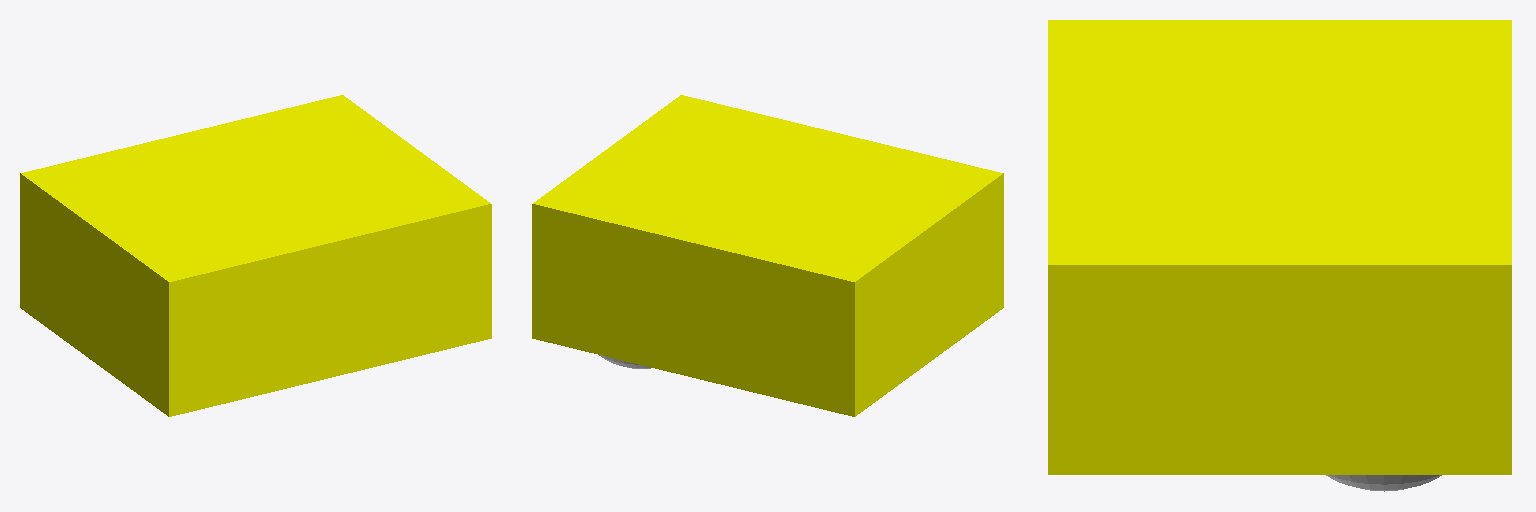
The robot description file, URDF, robot "underwater_robot":
<?xml version="1.0"?>
<robot name="underwater_robot">
  
  <!-- base_link - use box geometry -->
  <link name="base_link">
    <inertial>
      <origin xyz="-0.00388812346992118 0.214797507718185 0.000476870940854357" rpy="0 0 0" />
      <mass value="21.9611699884002" />
      <inertia ixx="0.23895137440233" ixy="-6.02120687701648E-05" ixz="6.67278401351575E-08" iyy="0.743447355689122" iyz="1.63793544263822E-06" izz="0.621848783014161" />
    </inertial>
    <visual>
      <geometry>
        <box size="1.0 0.8 0.4"/>
      </geometry>
      <material name="yellow">
        <color rgba="0.988 1 0 1" />
      </material>
    </visual>
    <collision>
      <geometry>
        <box size="1.0 0.8 0.4"/>
      </geometry>
    </collision>
  </link>

  <!-- Other links also use simple geometry -->
  <link name="Link1">
    <inertial>
      <origin xyz="-0.284442084254638 0.0315351600726216 0.110185193232208" rpy="0 0 0" />
      <mass value="26.1757475044251" />
      <inertia ixx="0.694456523856631" ixy="0.0239708286389597" ixz="-0.00454179397071017" iyy="1.11839552637036" iyz="0.00257399094431449" izz="1.14010350472946" />
    </inertial>
    <visual>
      <geometry>
        <sphere radius="0.2"/>
      </geometry>
      <material name="gray">
        <color rgba="0.752941 0.752941 0.752941 1" />
      </material>
    </visual>
    <collision>
      <geometry>
        <sphere radius="0.2"/>
      </geometry>
    </collision>
  </link>

  <joint name="J1" type="continuous">
    <origin xyz="0.288260052347553 0.179999999999991 -0.10968904997502" rpy="0 0 0" />
    <parent link="base_link" />
    <child link="Link1" />
    <axis xyz="0.866025403784441 0 0.499999999999996" />
  </joint>

</robot>

--- Facts derived from the render (not from the file) ---
The picture shows the robot from 3 angles, left to right: view 1: azimuth 30°, elevation 25°; view 2: azimuth 150°, elevation 25°; view 3: azimuth 270°, elevation 25°; orthographic projection.
Robot: underwater_robot — 2 links, 1 joints (1 continuous); root link base_link; default pose: all joints at 0.
Visible links, largest first — view 1: base_link; view 2: base_link; view 3: base_link, Link1.
Link boxes in pixels (x1=…): base_link: x1=20, y1=95, x2=491, y2=416; base_link: x1=532, y1=95, x2=1003, y2=416; base_link: x1=1048, y1=20, x2=1511, y2=474; Link1: x1=1326, y1=475, x2=1441, y2=491.
Bounding box of the posed robot: 1 × 0.8 × 0.5097 m (x, y, z).
Geometry: primitives only (box / cylinder / sphere), no mesh files.
